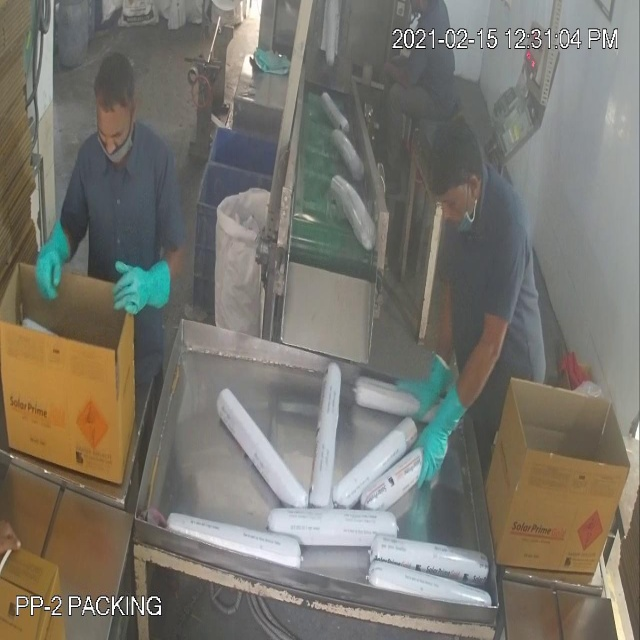Guantes: (101, 241, 185, 337), (414, 384, 471, 498), (28, 208, 83, 316), (403, 348, 454, 433)
